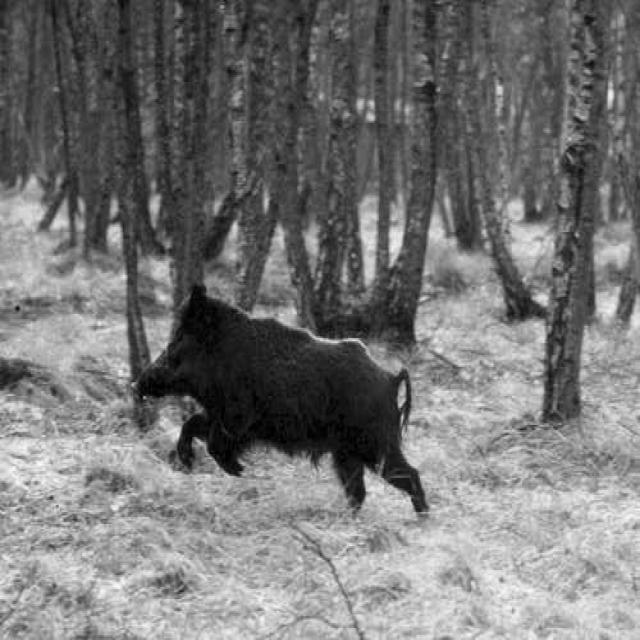boar: (130, 283, 429, 512)
